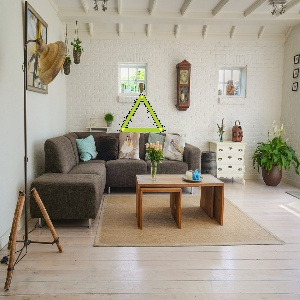triangle: (116, 91, 167, 136)
